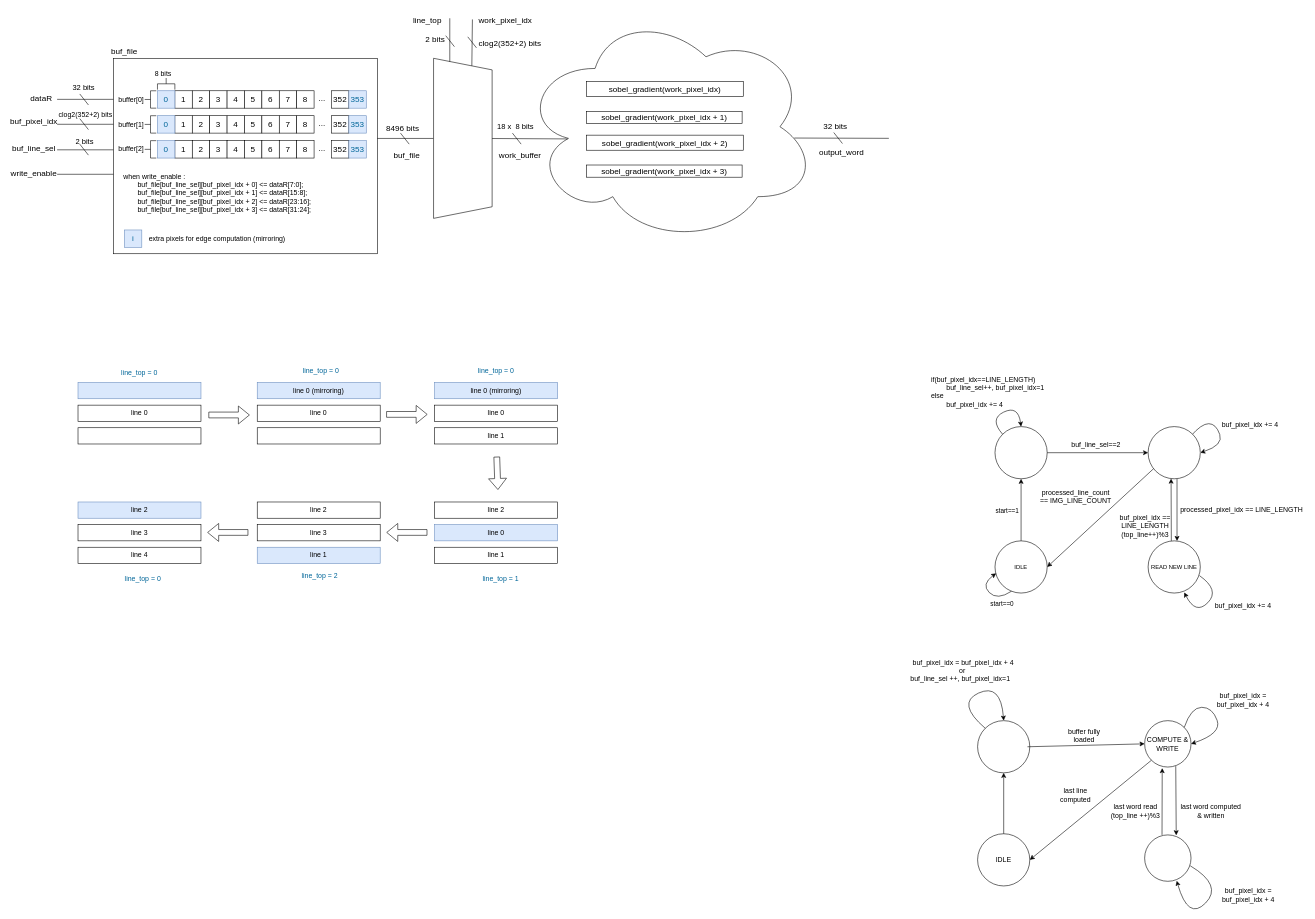
Some shapes in this 1315 by 919 pixel diagram are drawn without their labels. Each missing label, with the centre of its shape:
LOAD INITIAL LINES: [1020,452]
PROCESS AND WRITEBACK: [1174,452]
READ INITIAL LINES: [1003,746]
READ ONE LINE: [1167,857]
